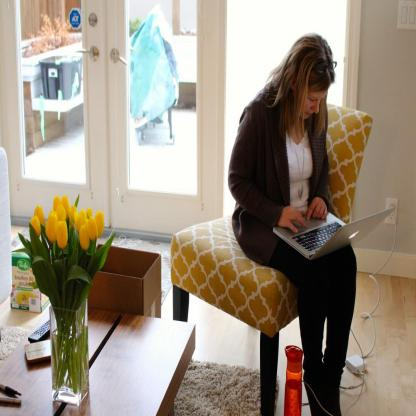board: (271, 209, 390, 258), (284, 344, 303, 416)
